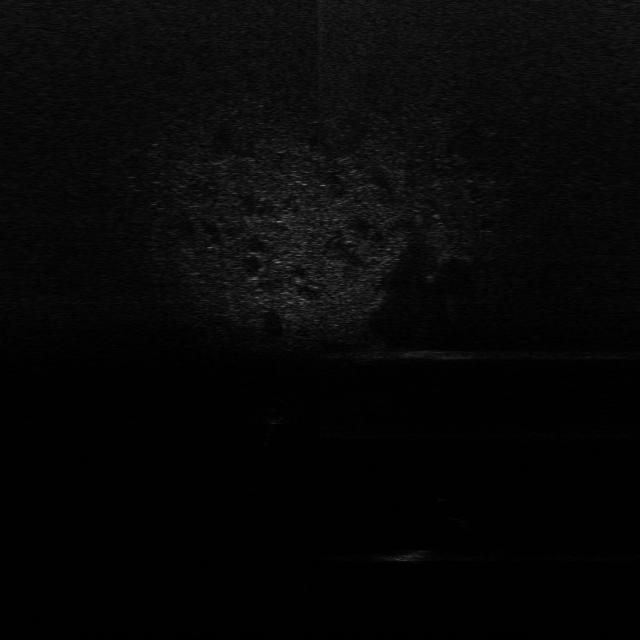ball: (260, 407, 288, 426)
metal bucket: (376, 543, 438, 565)
tyre: (428, 493, 478, 530)
